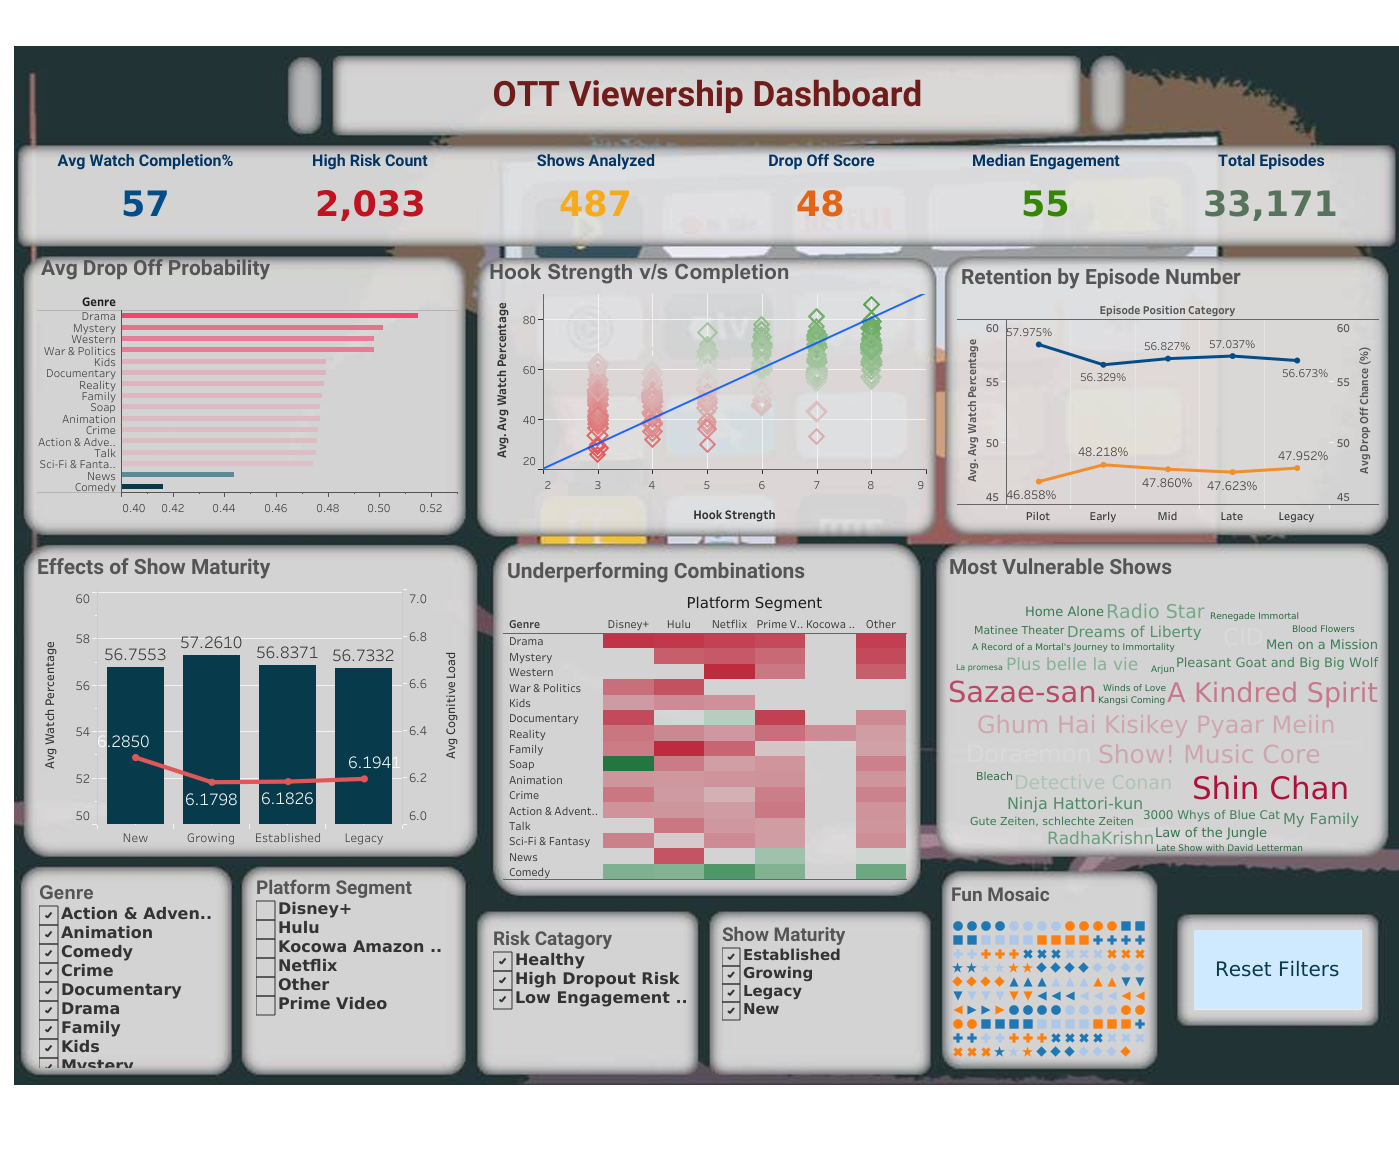

Layout of this report page (visuals, bound fields, positions):
{"tool":"tableau","page":{"name":"Dashboard 1","canvas":[1400,1160],"ordinal":0},"visuals":[{"type":"text","box":[336,51,743,85]},{"type":"worksheet","title":"KPI","mark":"Automatic","box":[33,151,1351,90]},{"type":"worksheet","title":"v1: Bar ","mark":"Automatic","rows":["genre"],"cols":["drop_off_probability"],"box":[36.8,249,421.7,274]},{"type":"worksheet","title":"V3: Scatter","mark":"Shape","rows":["avg_watch_percentage"],"cols":["hook_strength"],"box":[484.9,253,441.5,270]},{"type":"worksheet","title":"V4: Line","mark":"Line","rows":["avg_watch_percentage","Calculation_0431852819832844"],"cols":["Calculation_0155325349744644"],"box":[957,258,422,267]},{"type":"worksheet","title":"V6: Combn","mark":"Automatic","rows":["avg_watch_percentage","cognitive_load"],"cols":["Calculation_0155325347905539"],"box":[33,548,434,299]},{"type":"worksheet","title":"V5:","mark":"Text","box":[945.3,548,435.8,313]},{"type":"worksheet","title":"V2: Heatmap","mark":"Automatic","rows":["genre"],"cols":["Calculation_0431852804599810"],"box":[503,552,404,328]},{"type":"filter","title":"V2: Heatmap","param":"[federated.042eeai1llbzmf12dee3x0gs9zos].[none:Calculation_0431852804599810:nk]","box":[256,875,197,192]},{"type":"worksheet","title":"Fun Filter","mark":"Shape","box":[947,877,206,197]},{"type":"filter","title":"V2: Heatmap","param":"[federated.042eeai1llbzmf12dee3x0gs9zos].[none:genre:nk]","box":[39,880,173,188]},{"type":"filter","title":"V6: Combn","param":"[federated.042eeai1llbzmf12dee3x0gs9zos].[none:Calculation_0155325347905539:nk]","box":[722,922,198,148]},{"type":"filter","title":"v1: Bar ","param":"[federated.042eeai1llbzmf12dee3x0gs9zos].[none:Calculation_0316954157793280:nk]","box":[493,926,197,141]},{"type":"worksheet","title":"Reset Button","mark":"Text","box":[1194,930,167,79]}]}

Visuals, with their boxes in screenshot pixels (x1, y1, x2, y2), scaled from the page's 1400x1160 canvas onto the 1399x1159 screenshot:
text: 336/51/1078/136
"KPI" worksheet: 33/151/1383/241
"v1: Bar " worksheet: 37/249/458/523
"V3: Scatter" worksheet (Shape marks): 485/253/926/523
"V4: Line" worksheet (Line marks): 956/258/1378/525
"V6: Combn" worksheet: 33/548/467/846
"V5:" worksheet (Text marks): 945/548/1380/860
"V2: Heatmap" worksheet: 503/552/906/879
"V2: Heatmap" filter: 256/874/453/1066
"Fun Filter" worksheet (Shape marks): 946/876/1152/1073
"V2: Heatmap" filter: 39/879/212/1067
"V6: Combn" filter: 721/921/919/1069
"v1: Bar " filter: 493/925/690/1066
"Reset Button" worksheet (Text marks): 1193/929/1360/1008
